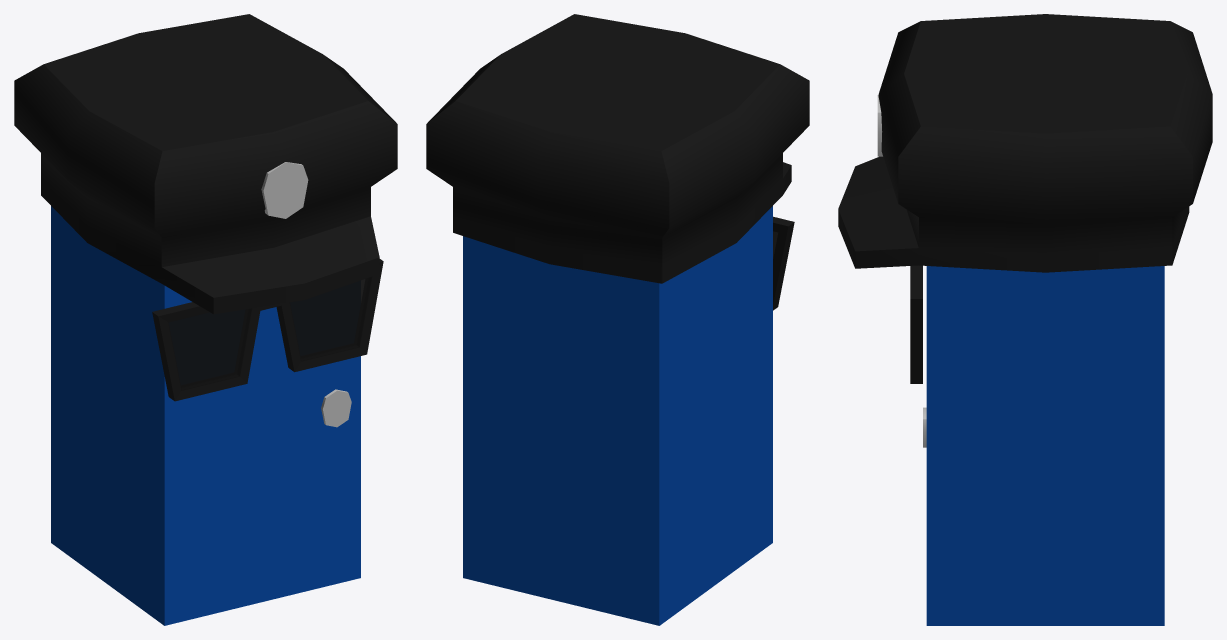
File: Officer Cool.fbx
The picture shows the model from 3 angles, left to right: view 1: azimuth 30°, elevation 25°; view 2: azimuth 150°, elevation 25°; view 3: azimuth 270°, elevation 25°; orthographic projection. The views are drawn at different scales.
Visible parts, largest first — view 1: pasted__pCube17, pCube11, pasted__Sunglasses, pCube12, pCube13; view 2: pasted__pCube17, pCube11, pasted__Sunglasses; view 3: pasted__pCube17, pCube11, pasted__Sunglasses.
Part boxes in pixels (x1,y1,x2,y2): pasted__pCube17: (51, 206, 360, 625); pCube11: (14, 14, 397, 314); pasted__Sunglasses: (152, 259, 383, 401); pCube12: (261, 162, 308, 218); pCube13: (321, 389, 351, 427); pasted__pCube17: (463, 206, 772, 625); pCube11: (426, 14, 809, 283); pasted__Sunglasses: (773, 216, 794, 310); pasted__pCube17: (926, 266, 1164, 625); pCube11: (838, 14, 1212, 272); pasted__Sunglasses: (910, 265, 922, 383).
Size of the model in its own units: 1.4 by 2.33 by 1.57.
